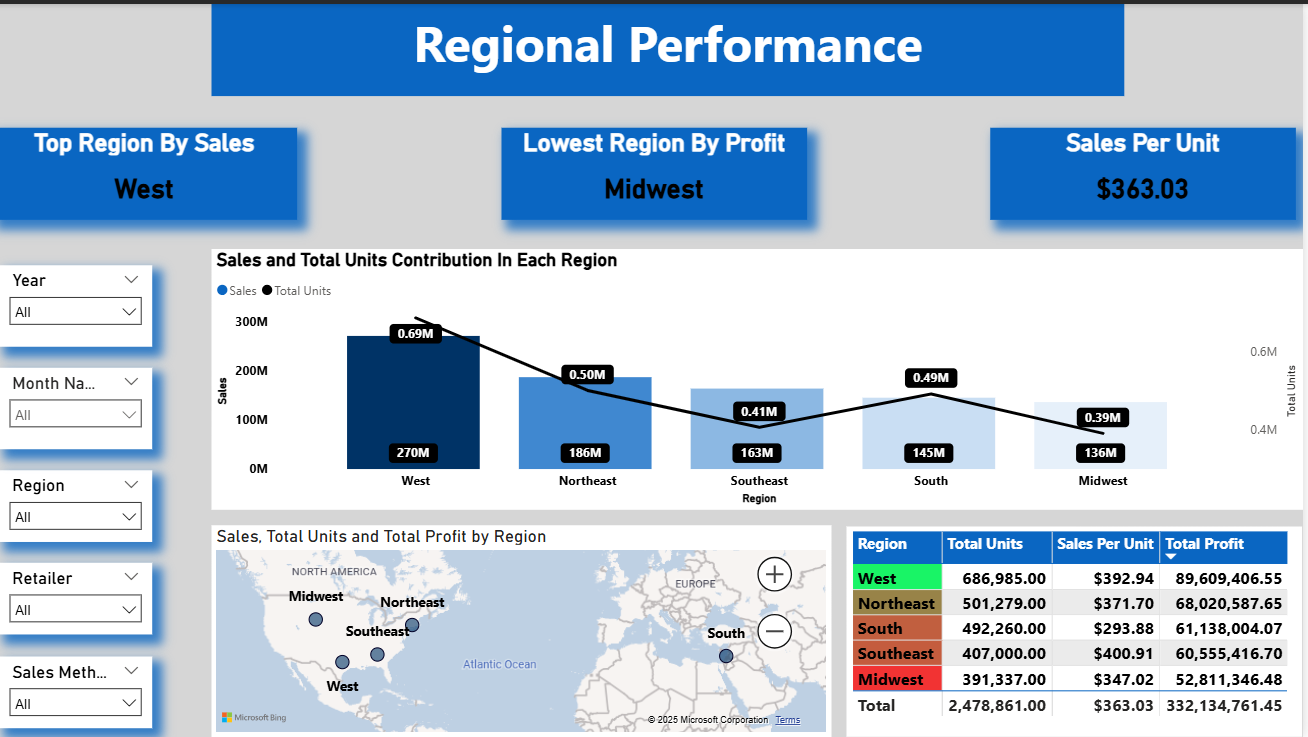

This screenshot's page, from the dashboard's own definition file:
{"tool":"powerbi","page":{"name":" Regional Performance","canvas":[1280,720],"ordinal":2},"visuals":[{"type":"map","fields":{"Category":["Countries.Region","Countries.Country","Sales.City"],"Size":["Sales.Sales"]},"box":[208,512,608,208],"z":2000},{"type":"tableEx","fields":{"Values":["Sales.Region","Sales.Sold Units","Sales.Sales Per Unit","Sales.Total Profit"]},"box":[832.5,513.2,447.5,206.2],"z":3000},{"type":"lineClusteredColumnComboChart","title":"Sales and Total Units Contribution In Each Region","fields":{"Category":["Sales.Region"],"Y":["Sales.Sales"],"Y2":["Sales.Sold Units"]},"box":[208,240,1072,256],"z":4000},{"type":"card","title":"Top Region By Sales","fields":{"Values":["Regions.Top Region by Sales"]},"box":[-6.8,121,300,90],"z":5000},{"type":"card","title":"Sales Per Unit","fields":{"Values":["Sales.Sales Per Unit"]},"box":[973.3,121,299.9,90],"z":6000},{"type":"card","title":"Lowest Region By Profit","fields":{"Values":["Regions.Lowest Region By Profit"]},"box":[493.4,121,300,90],"z":7000},{"type":"slicer","fields":{"Values":["Dates.Year"]},"box":[0,256,150,80],"z":8000},{"type":"slicer","fields":{"Values":["Regions.Region"]},"box":[0,458,150,70],"z":9000},{"type":"slicer","fields":{"Values":["Retailers.Retailer"]},"box":[0,549,150,70],"z":10000},{"type":"slicer","fields":{"Values":["Sales.Sales Method"]},"box":[0,640,150,70],"z":11000},{"type":"textbox","box":[208,0,896,90],"z":11001},{"type":"slicer","fields":{"Values":["Dates.Month Name"]},"box":[0,357,150,80],"z":11002}]}

Visuals, with their boxes in screenshot pixels (x1, y1, x2, y2), scaled from the page's 1280x720 canvas onto the 1308x737 screenshot:
map - Countries.Region x Countries.Country: 213 524 834 736
tableEx - Sales.Region x Sales.Sold Units: 851 525 1307 736
"Sales and Total Units Contribution In Each Region" lineClusteredColumnComboChart: 213 246 1307 508
"Top Region By Sales" card: 0 124 300 216
"Sales Per Unit" card: 995 124 1301 216
"Lowest Region By Profit" card: 504 124 811 216
slicer - Dates.Year: 0 262 153 344
slicer - Regions.Region: 0 469 153 540
slicer - Retailers.Retailer: 0 562 153 634
slicer - Sales.Sales Method: 0 655 153 727
textbox: 213 0 1128 92
slicer - Dates.Month Name: 0 365 153 447
